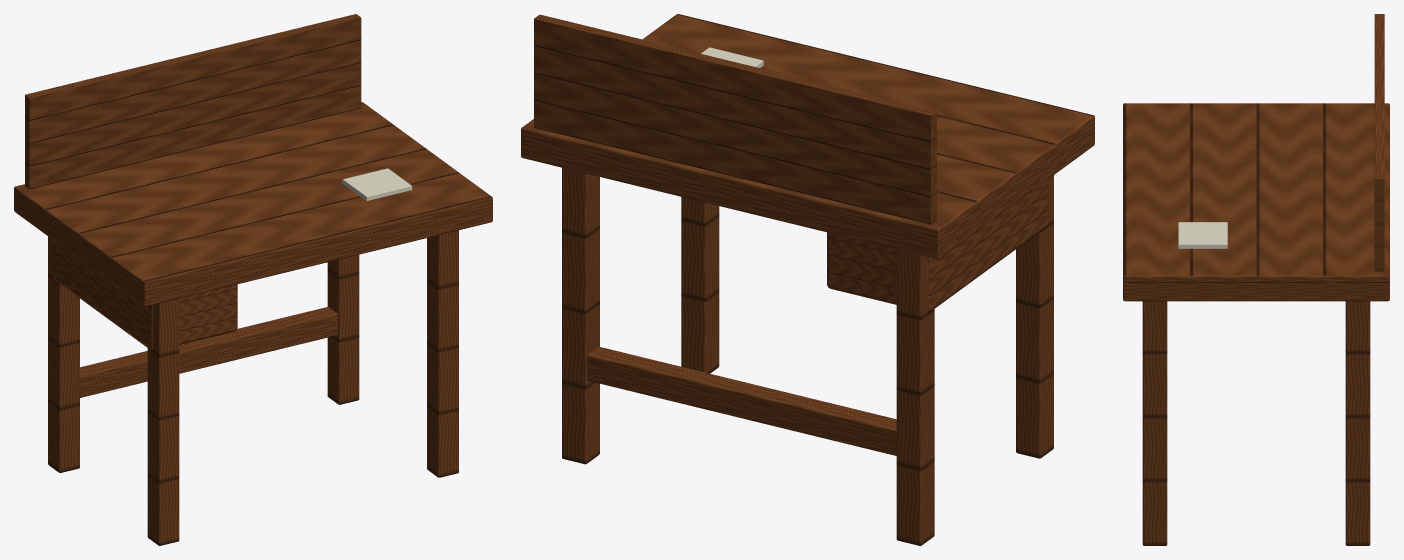
The model's file is research-and-crafting-progression-rough-study-desk-111b4a65__2831.glb.
3 renders of one model, left to right at view 1: azimuth 30°, elevation 25°; view 2: azimuth 150°, elevation 25°; view 3: azimuth 270°, elevation 25°, orthographic. The views are drawn at different scales.
Parts seen in each view (by area): view 1: rough-study-desk, drawer/wood; view 2: rough-study-desk, drawer/wood; view 3: rough-study-desk.
Part boxes in pixels (bbox=[...]): rough-study-desk: bbox=[14, 14, 492, 545]; drawer/wood: bbox=[53, 240, 237, 350]; rough-study-desk: bbox=[521, 14, 1094, 545]; drawer/wood: bbox=[827, 179, 1048, 311]; rough-study-desk: bbox=[1123, 14, 1389, 545].
Size of the model in its own units: 1 by 1.01 by 0.6499.
2 materials, 1 textured.
